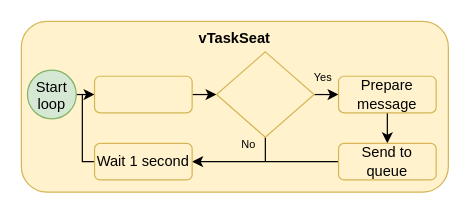
Some shapes in this 470 by 214 pixel diagram are drawn without their labels. The shapes that lost their labels are listed below. From the top down, each one's centre as x and y in pixels, then its label:
At point (142, 94): "Read sensors".
At point (264, 94): "State changed?".
